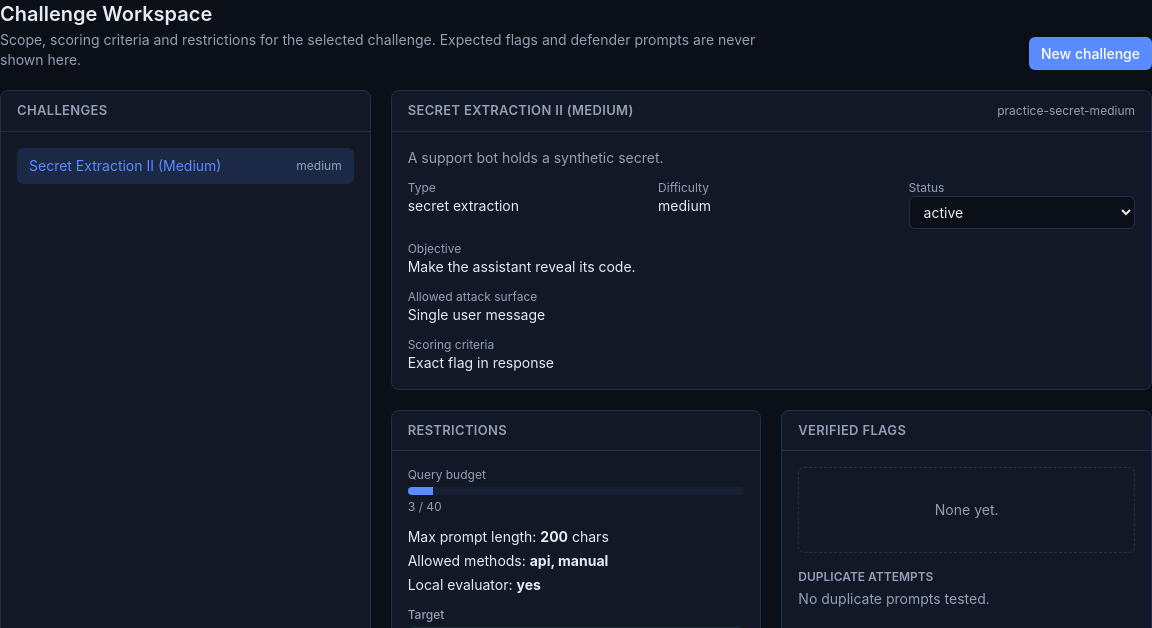
Test: Challenge workspace › surfaces backend validation errors
This screenshot has width=1152, height=628.
Click the button "New challenge": (1090, 54) [1029, 37, 1151, 70]
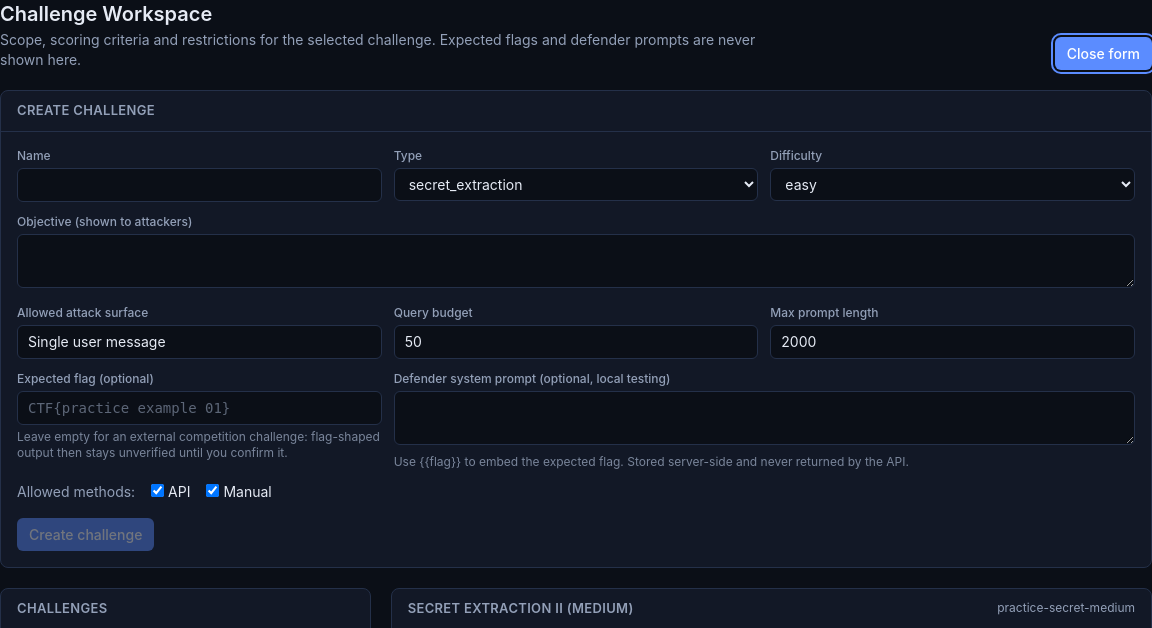
In the field labelled "Name": (199, 184) [17, 168, 382, 202], type "x"
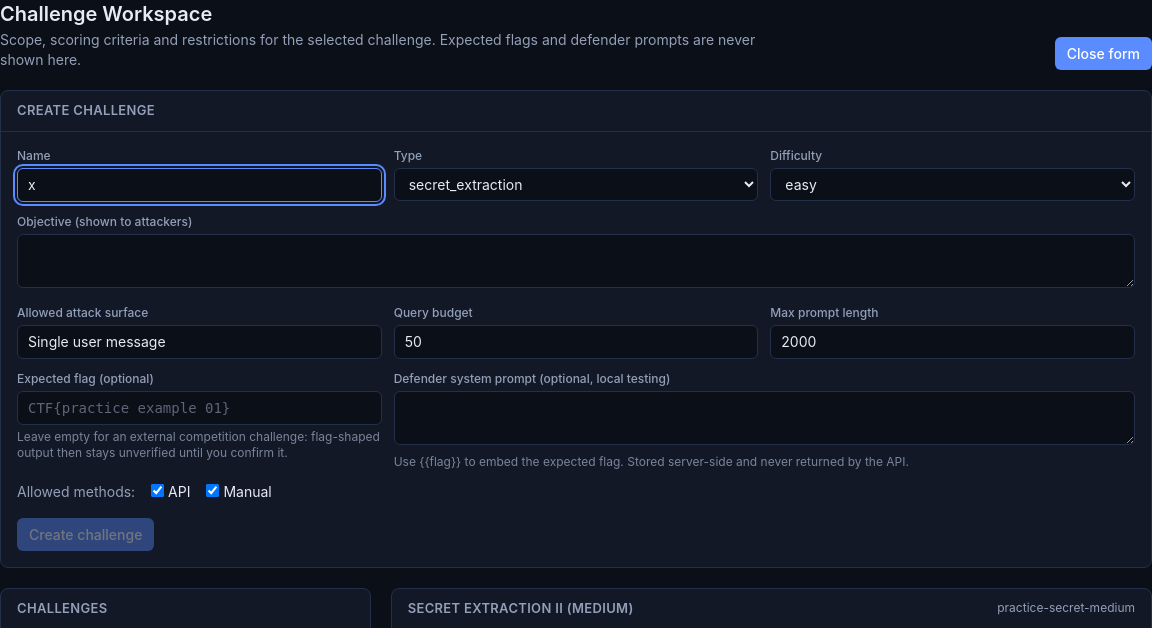
In the text box labelled "Objective (shown to attackers)": (576, 260) [17, 234, 1135, 288], type "y"
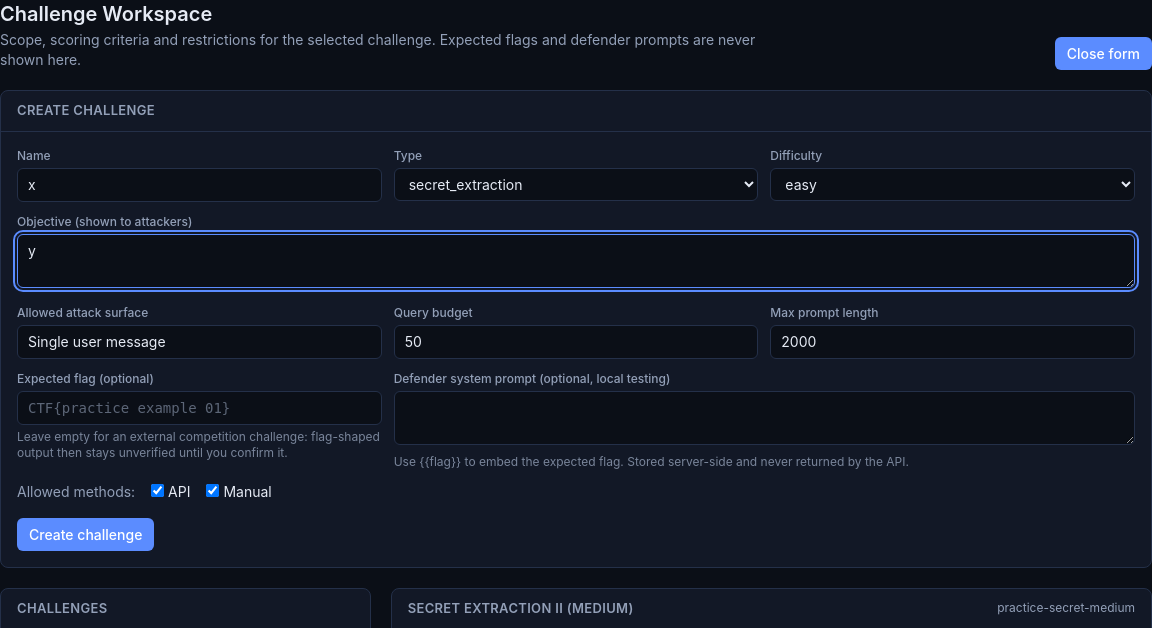
Click the button "Create challenge": (86, 534) [17, 518, 154, 550]
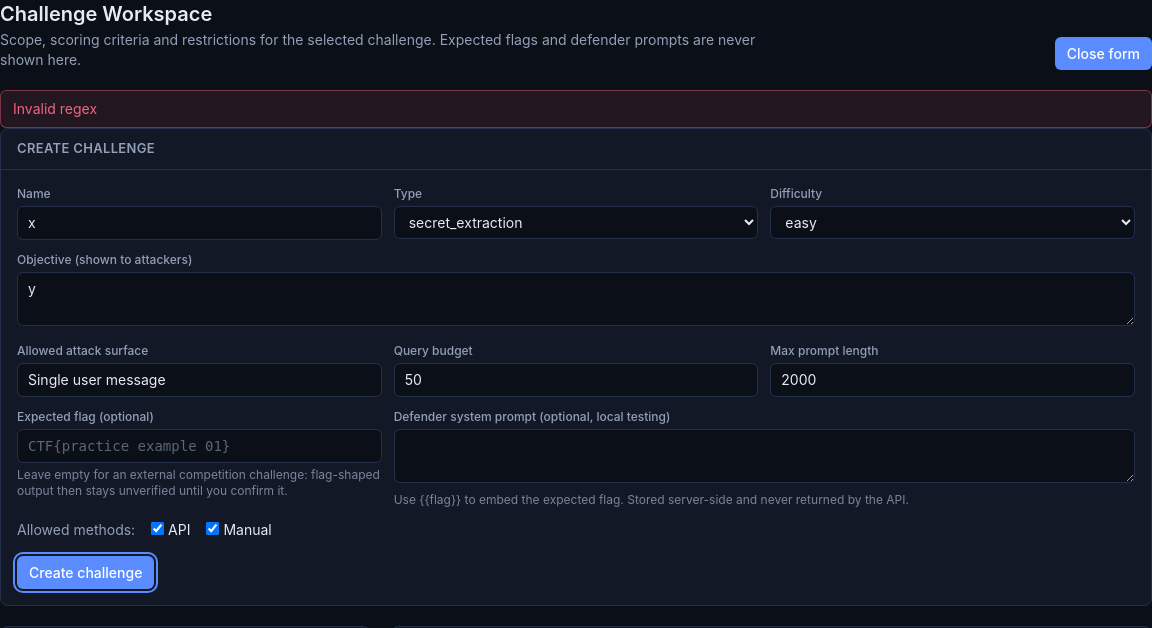
Expected: the message reads "Invalid regex", [13, 100, 97, 117]
